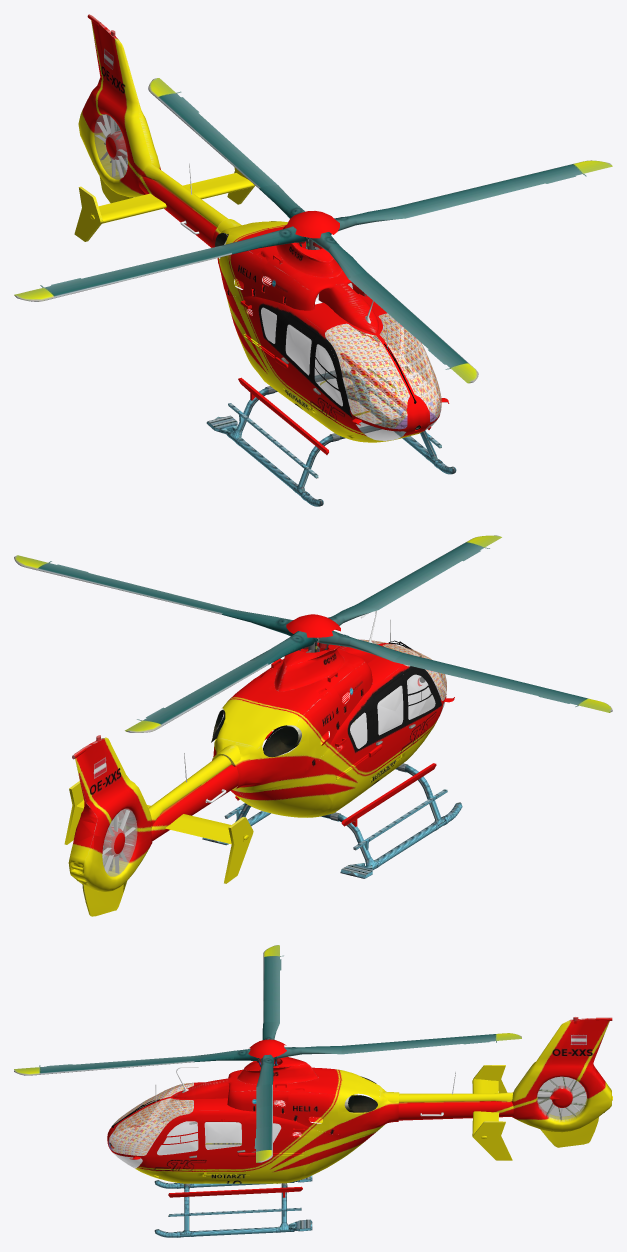
Rendered from shs.gltf.
3 views of the same model, one above another, from view 1: azimuth 30°, elevation 25°; view 2: azimuth 150°, elevation 25°; view 3: azimuth 270°, elevation 25° (orthographic). The views are drawn at different scales.
Parts seen in each view (by area): view 1: Exterior, Spin_12, Spin_22, Spin_7, Spin_17, Spin_0, Spin_20, Spin_15, Spin_21, Spin_16, Spin_5, Spin_11 (+2 smaller); view 2: Exterior, Spin_22, Spin_7, Spin_12, Spin_17, Spin_0, Spin_10, Spin_15, Spin_11, Spin_16, Spin_21, Spin_6 (+4 smaller); view 3: Exterior, Spin_17, Spin_7, Spin_22, Spin_12, Spin_0, Spin_5, Spin_6.
Part boxes in pixels (bbox=[...]): Exterior: bbox=[74, 14, 456, 506]; Spin_12: bbox=[14, 273, 117, 301]; Spin_22: bbox=[510, 160, 612, 189]; Spin_7: bbox=[148, 78, 212, 130]; Spin_17: bbox=[414, 331, 478, 383]; Spin_0: bbox=[287, 211, 339, 238]; Spin_20: bbox=[396, 192, 463, 218]; Spin_15: bbox=[348, 272, 400, 307]; Spin_21: bbox=[454, 179, 519, 203]; Spin_16: bbox=[382, 302, 432, 336]; Spin_5: bbox=[225, 155, 277, 188]; Spin_11: bbox=[107, 259, 173, 282]; Exterior: bbox=[64, 610, 462, 916]; Spin_22: bbox=[14, 555, 113, 585]; Spin_7: bbox=[125, 699, 199, 732]; Spin_12: bbox=[513, 682, 612, 712]; Spin_17: bbox=[428, 535, 501, 569]; Spin_0: bbox=[286, 614, 340, 637]; Spin_10: bbox=[393, 653, 464, 675]; Spin_15: bbox=[359, 583, 412, 609]; Spin_11: bbox=[454, 668, 522, 689]; Spin_16: bbox=[395, 564, 446, 589]; Spin_21: bbox=[103, 579, 171, 599]; Spin_6: bbox=[180, 680, 233, 704]; Exterior: bbox=[107, 1017, 612, 1237]; Spin_17: bbox=[14, 1063, 94, 1075]; Spin_7: bbox=[441, 1033, 521, 1045]; Spin_22: bbox=[252, 1126, 272, 1162]; Spin_12: bbox=[263, 945, 283, 980]; Spin_0: bbox=[248, 1039, 286, 1058]; Spin_5: bbox=[341, 1042, 392, 1054]; Spin_6: bbox=[392, 1038, 441, 1049].
Size of the model in its own units: 10.1 by 4.3 by 11.86.
Materials: 13 (6 with a texture image).
